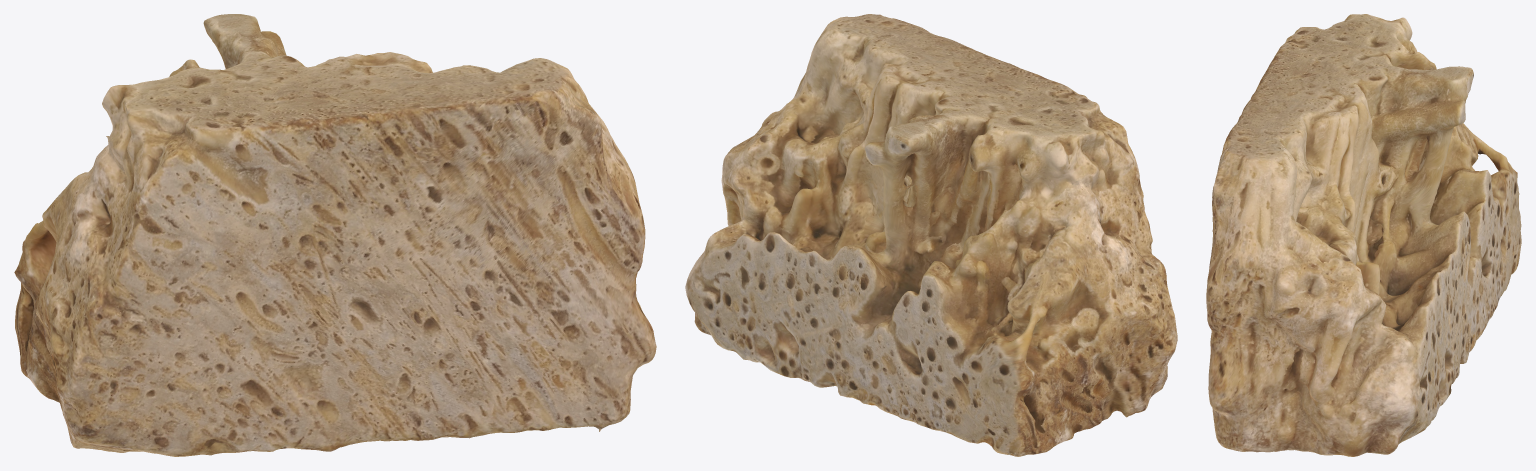
Rendered from fosil_vegetal_en_roca.glb.
3 views of the same model, side by side, from view 1: azimuth 30°, elevation 25°; view 2: azimuth 150°, elevation 25°; view 3: azimuth 270°, elevation 25° (orthographic). The views are drawn at different scales.
Visible parts, largest first — view 1: Object_2; view 2: Object_2; view 3: Object_2.
Boxes of the visible parts, x1,y1,x2,y2 form: Object_2: (14, 14, 656, 456); Object_2: (685, 14, 1177, 456); Object_2: (1206, 14, 1521, 456).
Bounding box in the file's own units: 5.51 × 3.47 × 3.48.
1 material, 1 textured.
